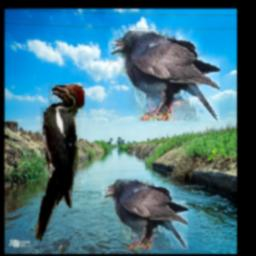Crow: (109, 31, 221, 121), (103, 180, 189, 250)
Woodpecker: (35, 83, 84, 242)
